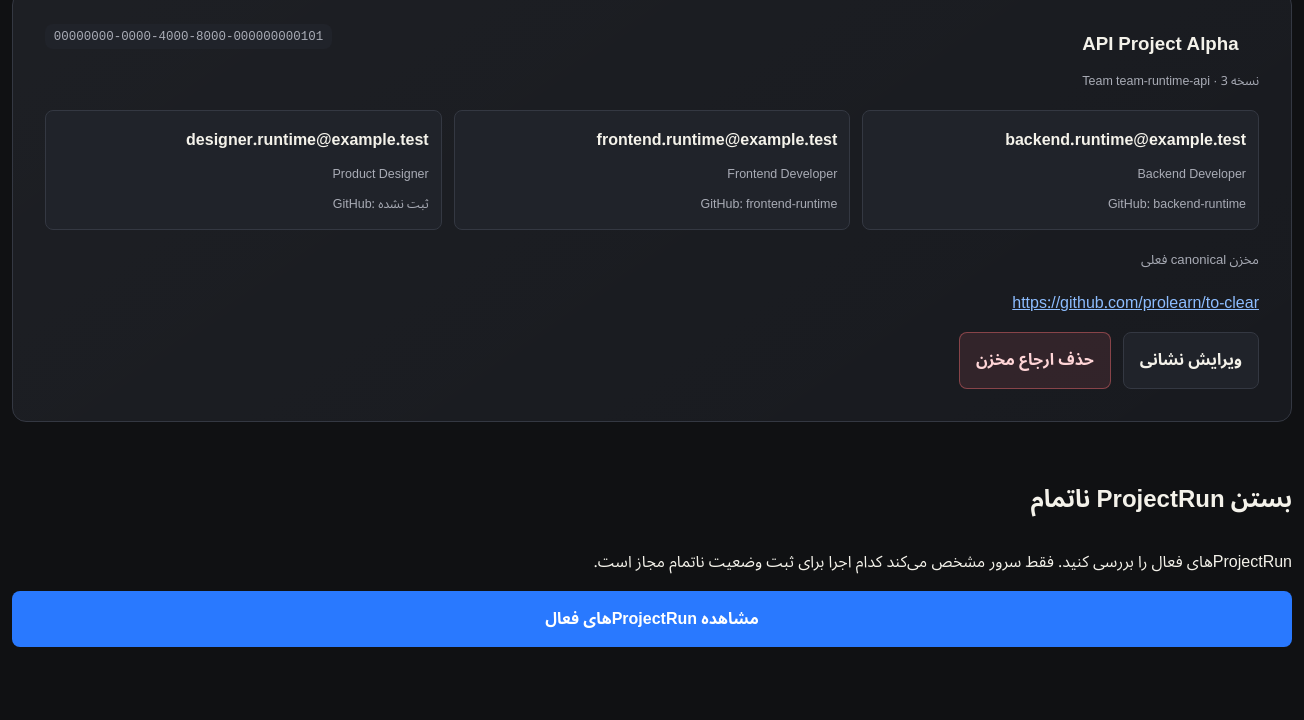
StaffFormationPage › clears only the PROLEARN repository reference after explicit confirmation
The width and height of the screenshot is (1304, 720).
(page scrolled)
expect the link "https://github.com/prolearn/to-clear" is shown: met, box left=1012, top=286, right=1259, bottom=320
Click the button "حذف ارجاع مخزن" at (1035, 360), box left=959, top=332, right=1111, bottom=389
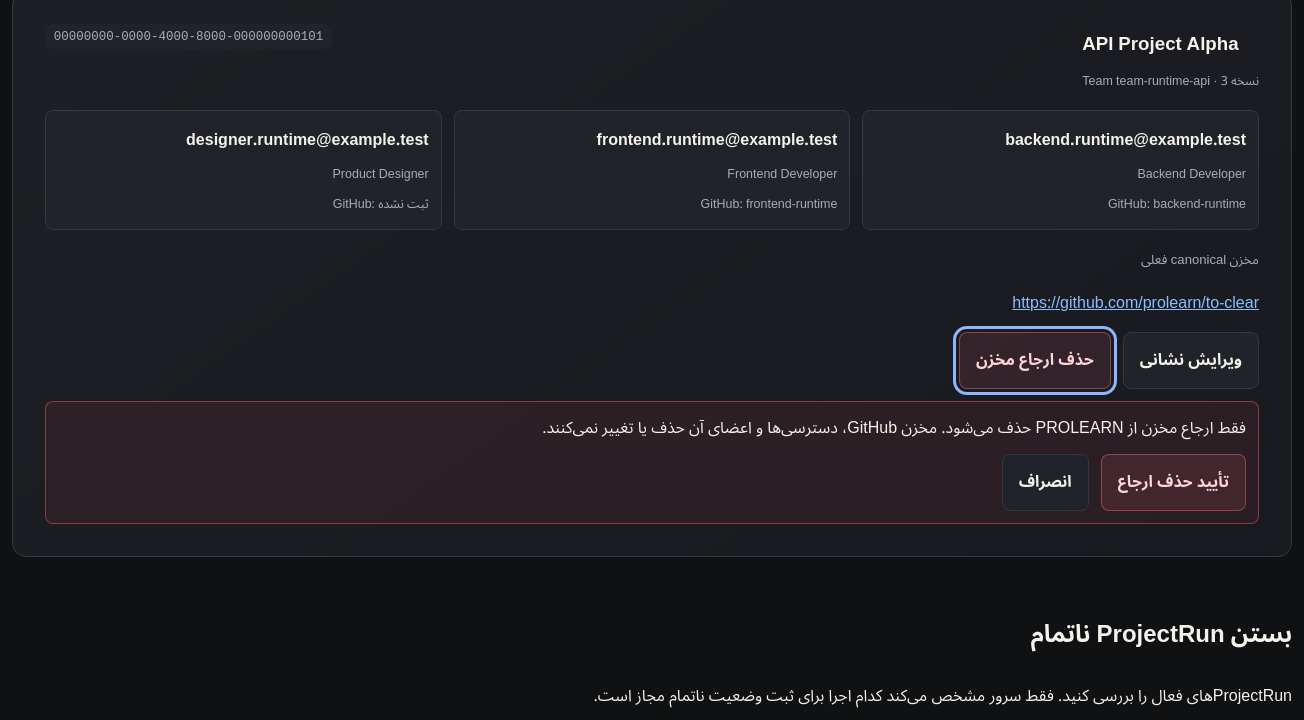
expect the text "فقط ارجاع مخزن از PROLEARN حذف می‌شود. مخزن GitHub، دسترسی‌ها و اعضای آن حذف یا تغییر نمی‌کنند." is shown: met, box left=542, top=411, right=1246, bottom=445
Click the button "تأیید حذف ارجاع" at (1173, 482), box left=1101, top=454, right=1246, bottom=511
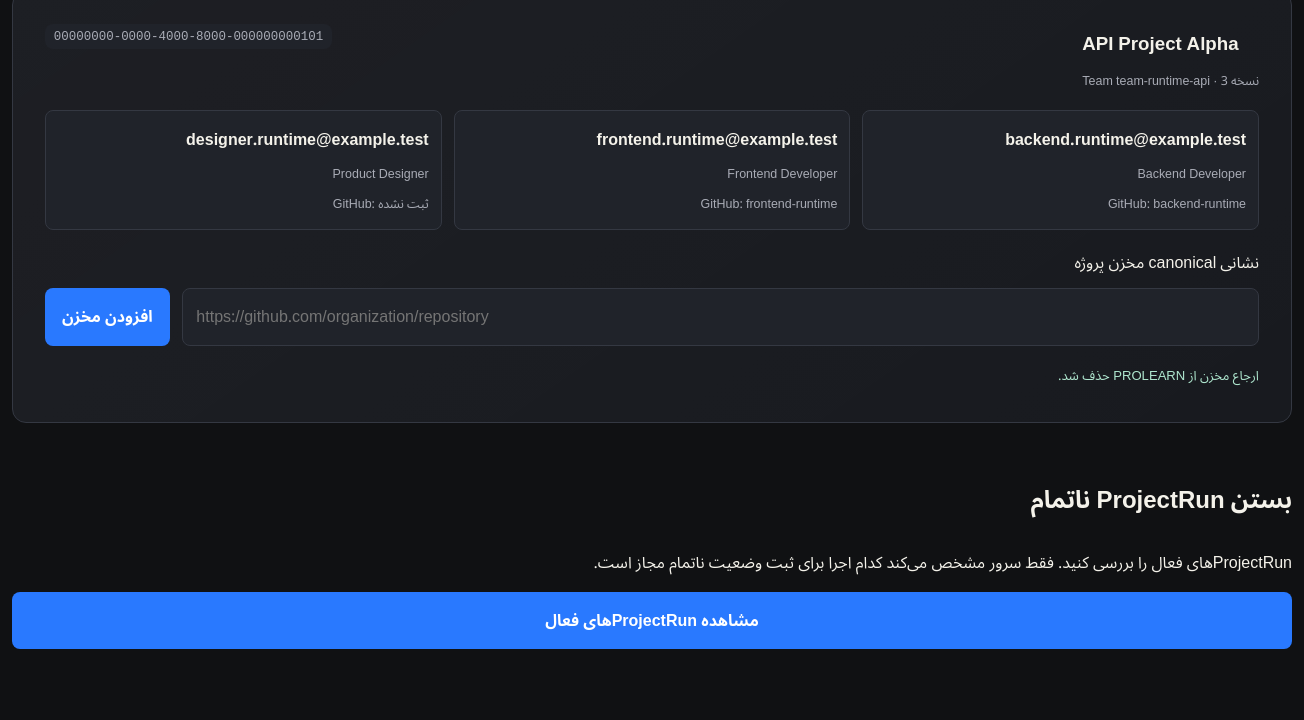
expect the text "ارجاع مخزن از PROLEARN حذف شد." is shown: met, box left=1058, top=362, right=1259, bottom=390
expect the button "افزودن مخزن" is shown: met, box left=45, top=288, right=170, bottom=346
